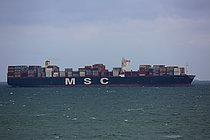Ship: (4, 60, 198, 90)
